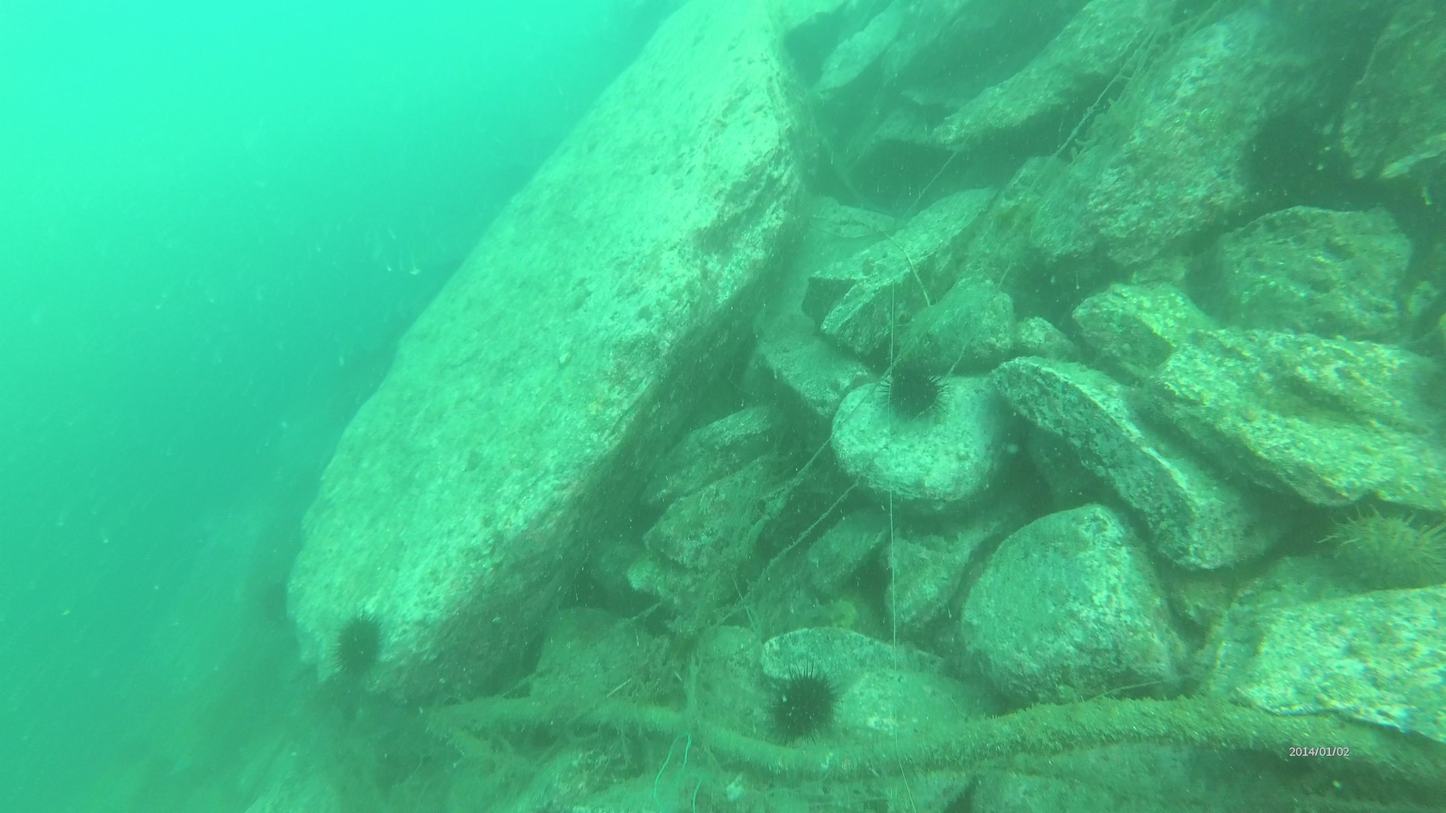echinus: (747, 594, 863, 640)
starfish: (1242, 102, 1340, 222), (1325, 496, 1446, 591), (758, 666, 837, 748), (877, 365, 954, 431), (324, 609, 385, 692)
